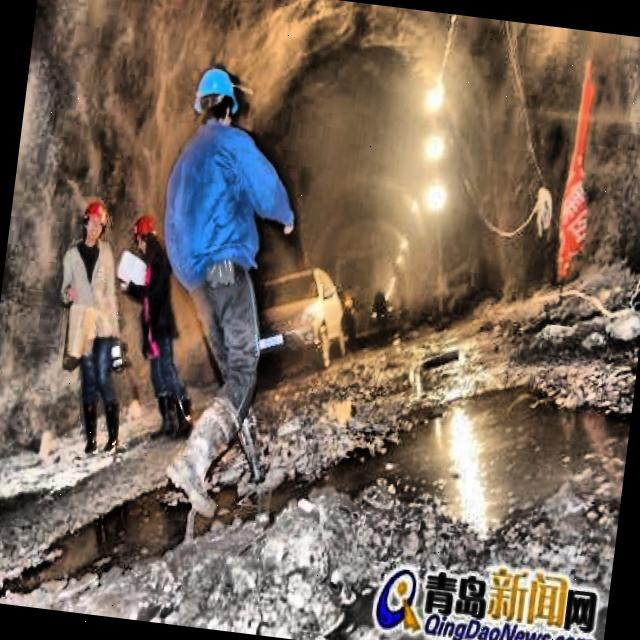helmet: (190, 62, 243, 132), (75, 198, 110, 246), (128, 212, 161, 256)
